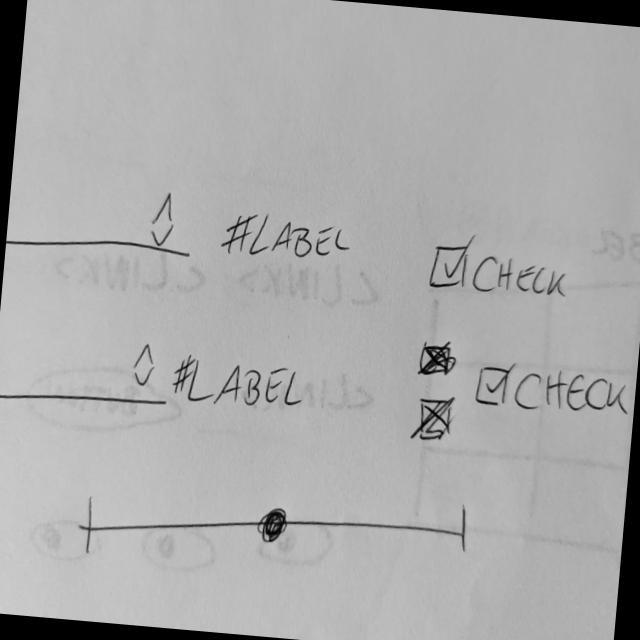checkbox: (426, 230, 573, 308), (475, 358, 637, 423)
label: (171, 347, 309, 417), (218, 208, 356, 271)
number-input: (6, 176, 198, 269), (1, 323, 176, 421)
slider: (76, 468, 474, 591)
